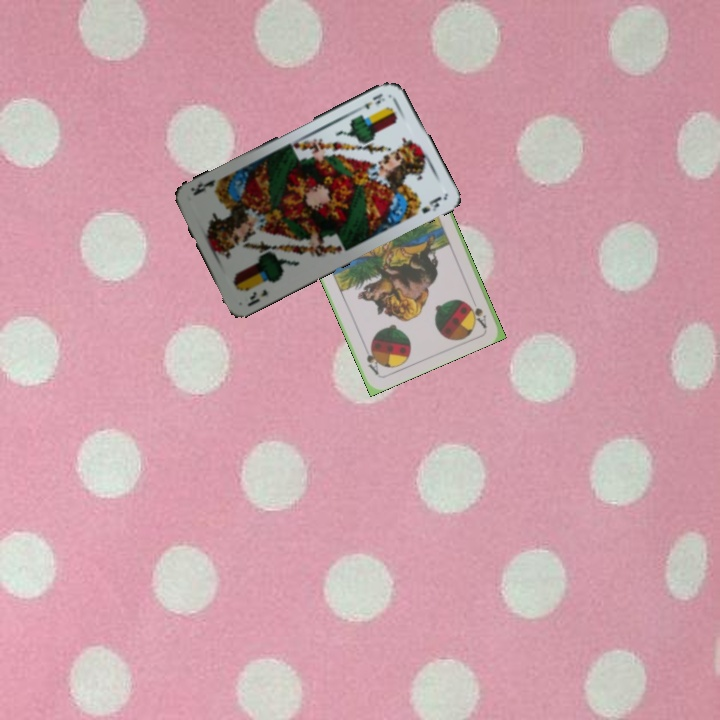EK: (353, 89, 388, 114), (243, 285, 270, 309)
SA: (466, 300, 489, 330)
